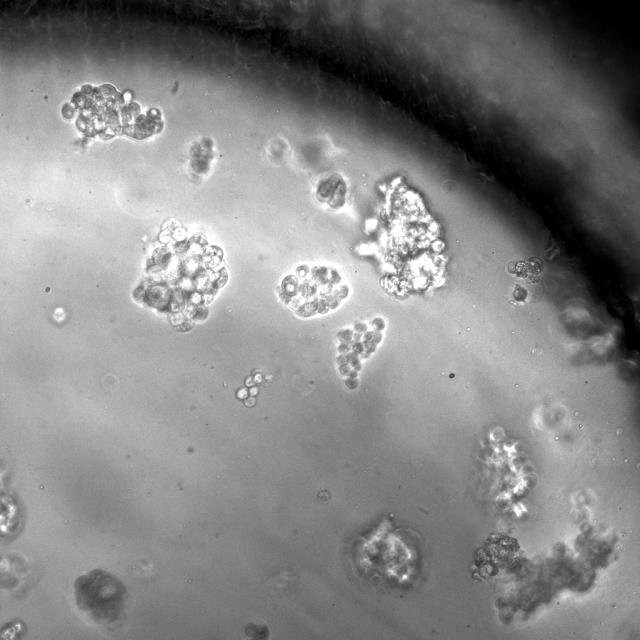organoid: (471, 494, 617, 623), (354, 176, 448, 297), (132, 218, 228, 331), (62, 83, 163, 140), (476, 427, 535, 518), (354, 517, 418, 586), (276, 263, 349, 318), (336, 317, 384, 388), (74, 569, 126, 622), (0, 458, 24, 539), (0, 551, 38, 598), (508, 256, 544, 302), (185, 136, 218, 181), (236, 368, 272, 407), (316, 173, 346, 208), (0, 618, 26, 639), (243, 622, 269, 639)
